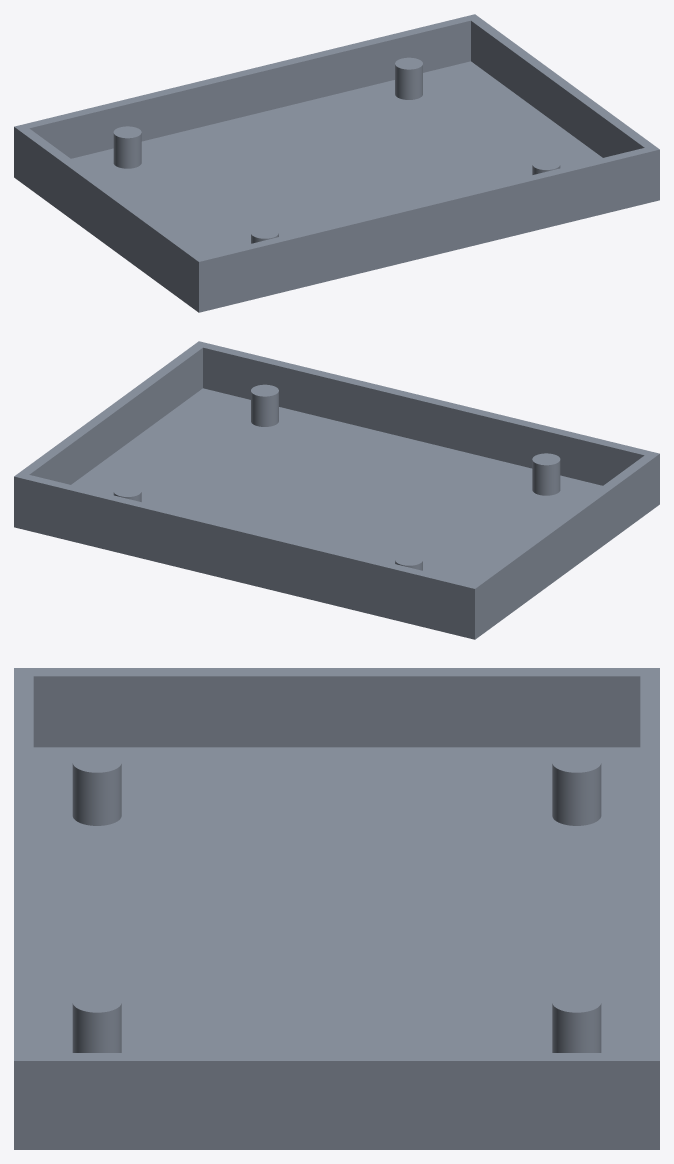
The model's file is step-2-preview-1.glb.
3 views of the same model, one above another, from view 1: azimuth 30°, elevation 25°; view 2: azimuth 150°, elevation 25°; view 3: azimuth 270°, elevation 25° (orthographic). The views are drawn at different scales.
Parts seen in each view (by area): view 1: preview_10, preview_1, preview_9, preview_0, preview_2, preview_8, preview_13, preview_14; view 2: preview_10, preview_3, preview_7, preview_0, preview_2, preview_8, preview_11, preview_12; view 3: preview_10, preview_5, preview_6, preview_2, preview_11, preview_13, preview_12, preview_14, preview_15, preview_17, preview_16, preview_18.
Part boxes in pixels (x1,y1,x2,y2): preview_10: [71, 61, 602, 255]; preview_1: [199, 149, 659, 312]; preview_9: [29, 20, 470, 158]; preview_0: [14, 127, 198, 312]; preview_2: [14, 14, 659, 261]; preview_8: [471, 21, 644, 157]; preview_13: [113, 133, 141, 168]; preview_14: [395, 64, 422, 99]; preview_10: [71, 388, 602, 582]; preview_3: [14, 476, 474, 639]; preview_7: [203, 347, 644, 485]; preview_0: [475, 454, 659, 639]; preview_2: [14, 341, 659, 588]; preview_8: [29, 348, 202, 484]; preview_11: [532, 460, 560, 495]; preview_12: [251, 391, 278, 426]; preview_10: [33, 747, 640, 1052]; preview_5: [14, 1061, 659, 1149]; preview_6: [33, 676, 640, 747]; preview_2: [14, 668, 659, 1060]; preview_11: [72, 763, 121, 825]; preview_13: [552, 763, 601, 825]; preview_12: [72, 1003, 121, 1052]; preview_14: [552, 1003, 601, 1052]; preview_15: [72, 752, 121, 772]; preview_17: [552, 752, 601, 772]; preview_16: [72, 992, 121, 1012]; preview_18: [552, 992, 601, 1012].
Size of the model in its own units: 0.095 by 0.01 by 0.066.
